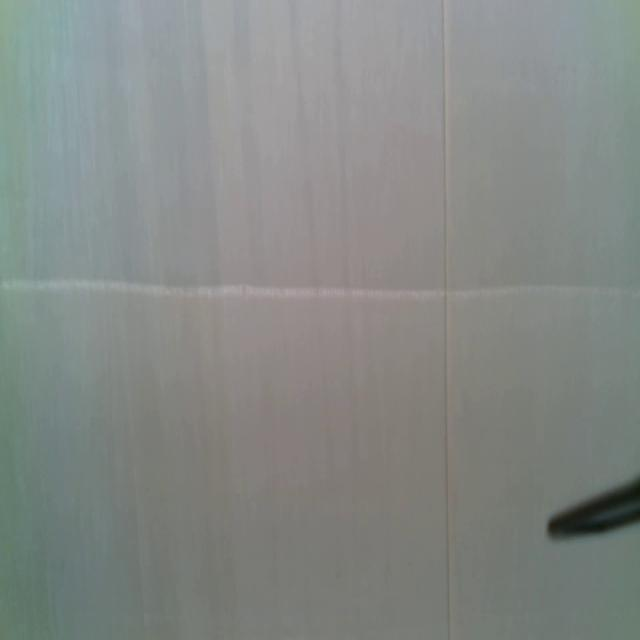crease: (438, 1, 451, 640)
